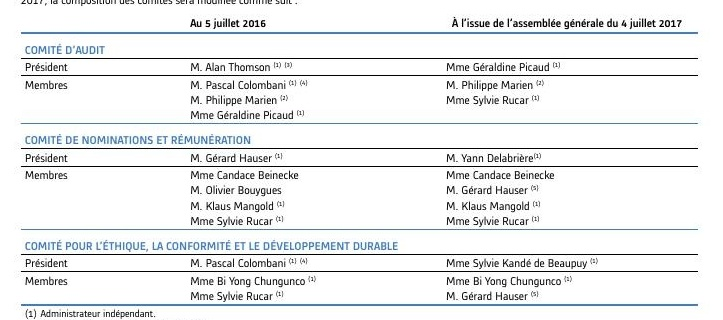table: (0, 0, 723, 320)
